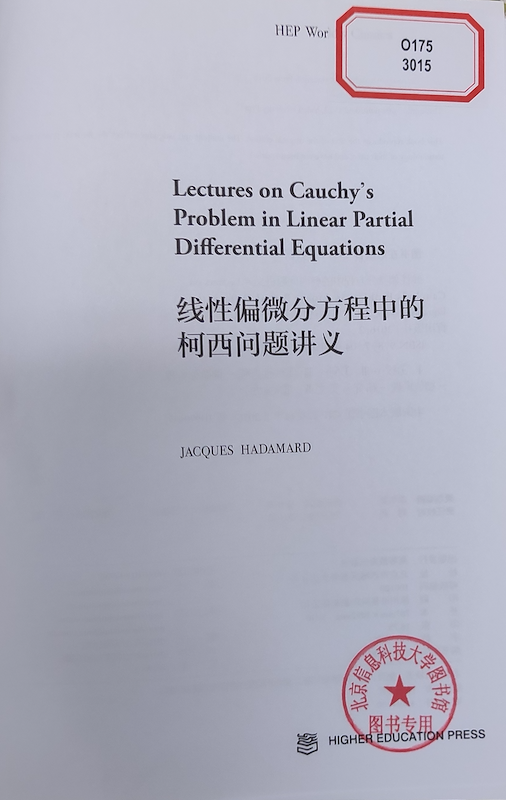Text_area: (166, 164, 446, 384), (292, 617, 480, 765), (259, 7, 492, 112), (146, 420, 328, 467)
